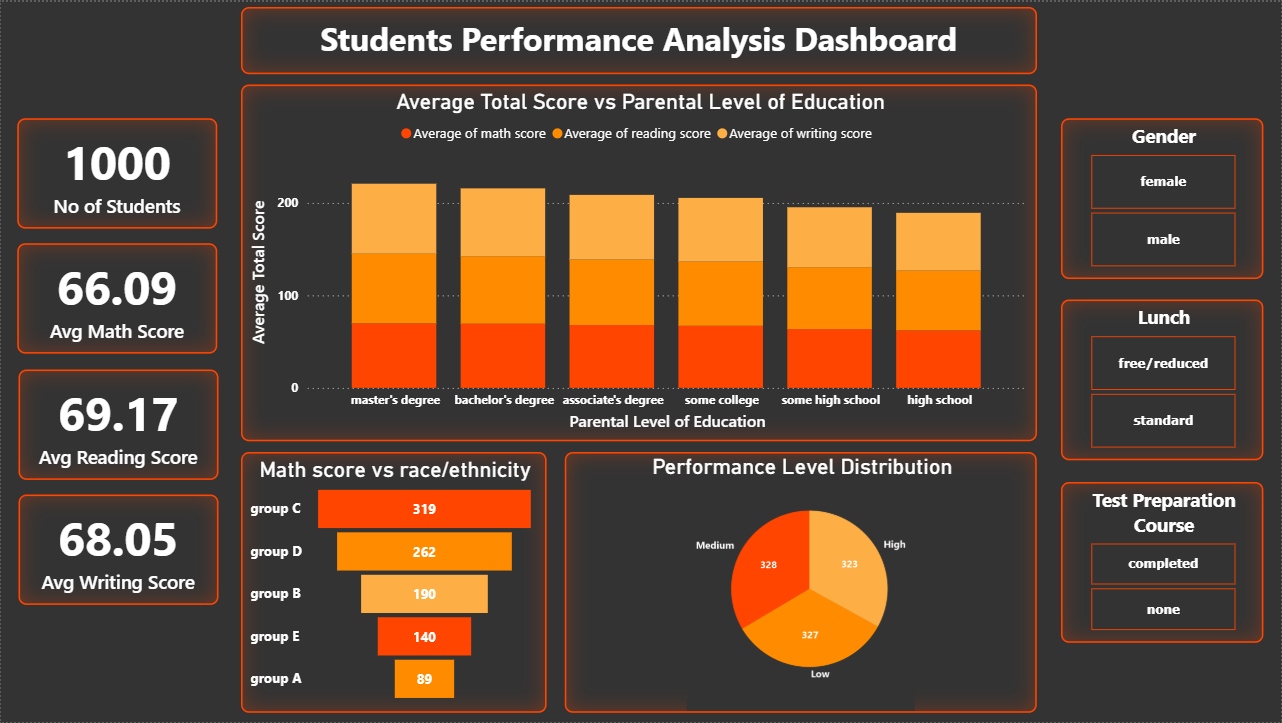

What the dashboard file says about the page in this screenshot:
{"tool":"powerbi","page":{"name":"Page 1","canvas":[1280,720],"ordinal":0},"visuals":[{"type":"slicer","title":"Gender","fields":{"Values":["StudentsPerformance.gender"]},"box":[1060.5,116,202.7,160.5],"z":0,"group":"g2"},{"type":"pythonVisual","title":"Performance Level Distribution","fields":{"Values":["StudentsPerformance.math score","StudentsPerformance.reading score","StudentsPerformance.writing score"]},"box":[564.7,450.3,472.1,261],"z":0,"group":"g3"},{"type":"slicer","title":"Lunch","fields":{"Values":["StudentsPerformance.lunch"]},"box":[1060.5,297.6,202.7,160.5],"z":1000,"group":"g2"},{"type":"funnel","title":"Math score vs race/ethnicity","fields":{"Category":["StudentsPerformance.race/ethnicity"],"Y":["CountNonNull(StudentsPerformance.math score)"]},"box":[240.6,450,305.2,260.6],"z":1000,"group":"g3"},{"type":"columnChart","title":"Average Total Score vs Parental Level of Education","fields":{"Category":["StudentsPerformance.parental level of education"],"Y":["Avg(StudentsPerformance.math score)","Avg(StudentsPerformance.reading score)","Avg(StudentsPerformance.writing score)"]},"box":[240.6,82.6,796.3,357.1],"z":2000,"group":"g4"},{"type":"slicer","title":"Test Preparation Course","fields":{"Values":["StudentsPerformance.test preparation course"]},"box":[1060.5,479.1,202.7,160.5],"z":2000,"group":"g2"},{"type":"textbox","box":[240.6,4.8,796.3,67.6],"z":3000,"group":"g4"},{"type":"card","fields":{"Values":["Avg(StudentsPerformance.math score)"]},"box":[15.7,242.3,200,110],"z":3000,"group":"g1"},{"type":"group","id":"g1","title":"Group 1","box":[15.7,116.8,201.2,486.4],"z":4000},{"type":"card","fields":{"Values":["Avg(StudentsPerformance.reading score)"]},"box":[16.9,367.7,200,110],"z":4000,"group":"g1"},{"type":"group","id":"g2","title":"Group 2","box":[1060.5,116,202.7,523.6],"z":5000},{"type":"card","fields":{"Values":["Avg(StudentsPerformance.writing score)"]},"box":[16.9,493.2,200,110],"z":5000,"group":"g1"},{"type":"group","id":"g3","title":"Group 3","box":[240.6,450,796.2,261.3],"z":5001,"group":"g4"},{"type":"group","id":"g4","title":"Group 4","box":[240.6,4.8,796.3,706.5],"z":5002},{"type":"card","fields":{"Values":["CountNonNull(StudentsPerformance.gender)"]},"box":[15.7,116.8,200,110],"z":8000,"group":"g1"}]}

Visuals, with their boxes in screenshot pixels (x1, y1, x2, y2), scaled from the page's 1280x720 canvas onto the 1282x723 screenshot:
"Gender" slicer: BBox(1062, 116, 1265, 278)
"Performance Level Distribution" pythonVisual: BBox(566, 452, 1038, 714)
"Lunch" slicer: BBox(1062, 299, 1265, 460)
"Math score vs race/ethnicity" funnel: BBox(241, 452, 547, 714)
"Average Total Score vs Parental Level of Education" columnChart: BBox(241, 83, 1039, 442)
"Test Preparation Course" slicer: BBox(1062, 481, 1265, 642)
textbox: BBox(241, 5, 1039, 73)
card - Avg(StudentsPerformance.math score): BBox(16, 243, 216, 354)
"Group 1" group: BBox(16, 117, 217, 606)
card - Avg(StudentsPerformance.reading score): BBox(17, 369, 217, 480)
"Group 2" group: BBox(1062, 116, 1265, 642)
card - Avg(StudentsPerformance.writing score): BBox(17, 495, 217, 606)
"Group 3" group: BBox(241, 452, 1038, 714)
"Group 4" group: BBox(241, 5, 1039, 714)
card - CountNonNull(StudentsPerformance.gender): BBox(16, 117, 216, 228)
